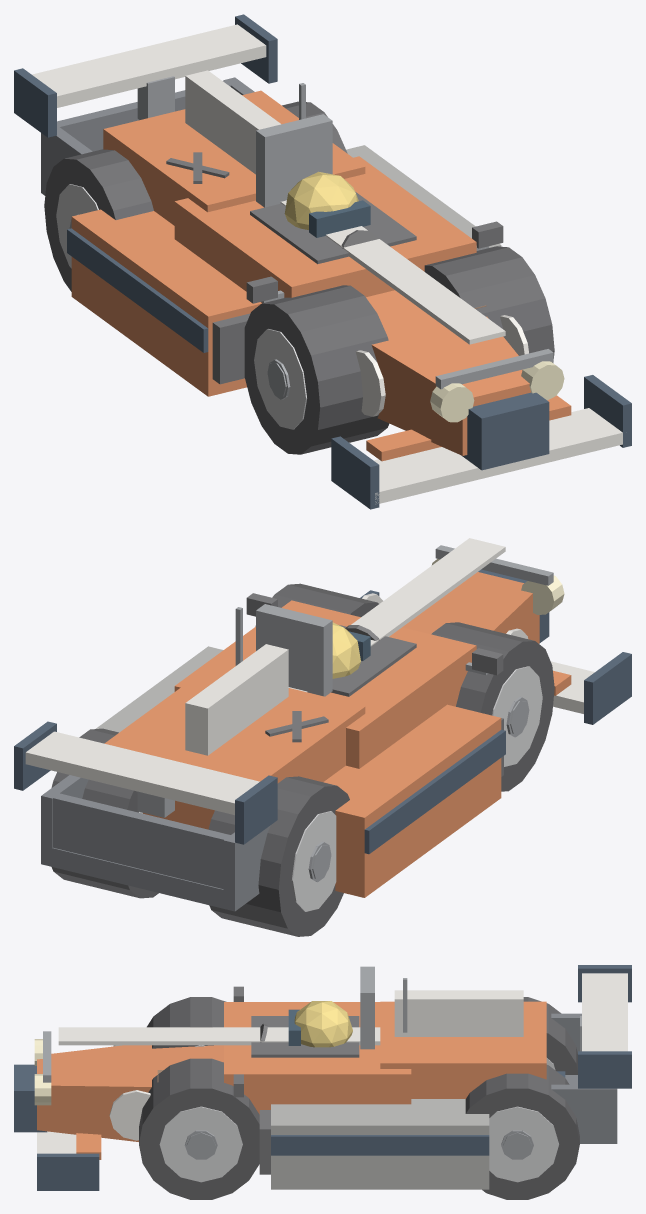
The model's file is race_v2.glb.
The picture shows the model from 3 angles, top to bottom: view 1: azimuth 30°, elevation 25°; view 2: azimuth 150°, elevation 25°; view 3: azimuth 270°, elevation 25°; orthographic projection. The views are drawn at different scales.
Visible parts, largest first — view 1: body, wheel-front-left, wheel-back-left, wheel-front-right; view 2: body, wheel-back-left, wheel-front-left, wheel-back-right, wheel-front-right; view 3: body, wheel-front-right, wheel-back-right, wheel-front-left, wheel-back-left.
Boxes of the visible parts, x1,y1,x2,y2 form: body: (14, 14, 631, 509); wheel-front-left: (244, 285, 389, 454); wheel-back-left: (44, 149, 153, 291); wheel-front-right: (424, 246, 554, 362); body: (14, 538, 631, 911); wheel-back-left: (208, 776, 349, 936); wheel-front-left: (431, 622, 554, 791); wheel-back-right: (51, 728, 158, 898); wheel-front-right: (255, 583, 378, 626); body: (14, 965, 631, 1190); wheel-front-right: (139, 1058, 259, 1199); wheel-back-right: (465, 1065, 579, 1199); wheel-front-left: (147, 997, 226, 1048); wheel-back-left: (523, 997, 577, 1074).
Bounding box in the file's own units: 1.34 × 0.9954 × 2.97.
